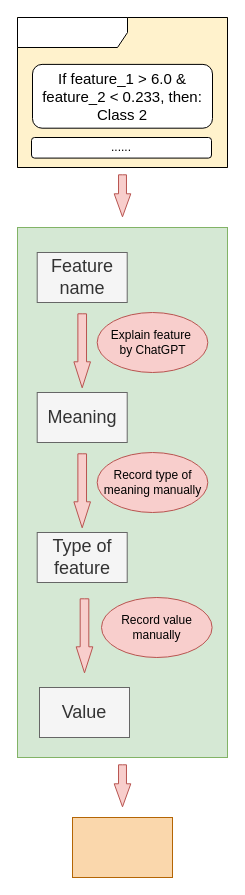
The diagram is 245 pixels wide and 895 high, and some of its shapes have lost their labels. Here are the shapes that lost their labels. From the top down, the box of each, then its label:
(16, 16, 228, 168): Classification Rules
(72, 816, 172, 878): Lookup table
